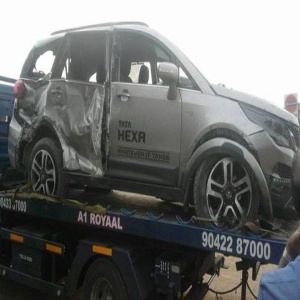door: (53, 85, 143, 174)
